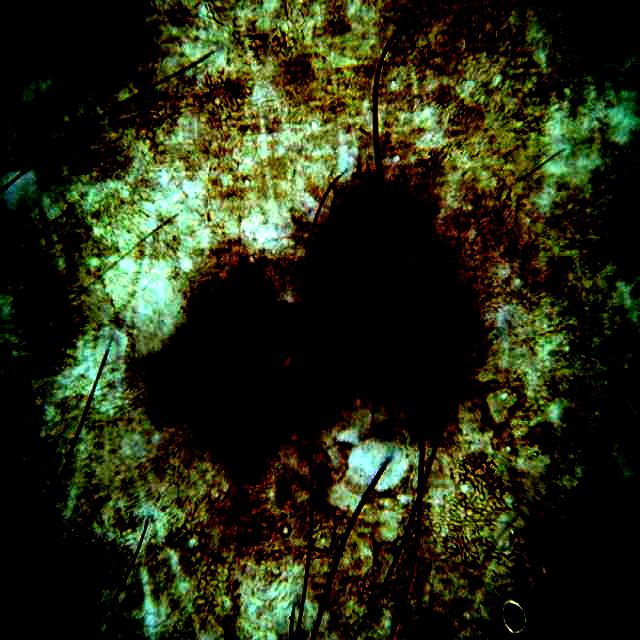MEL: (149, 262, 302, 474), (307, 172, 415, 449), (407, 262, 471, 417)
